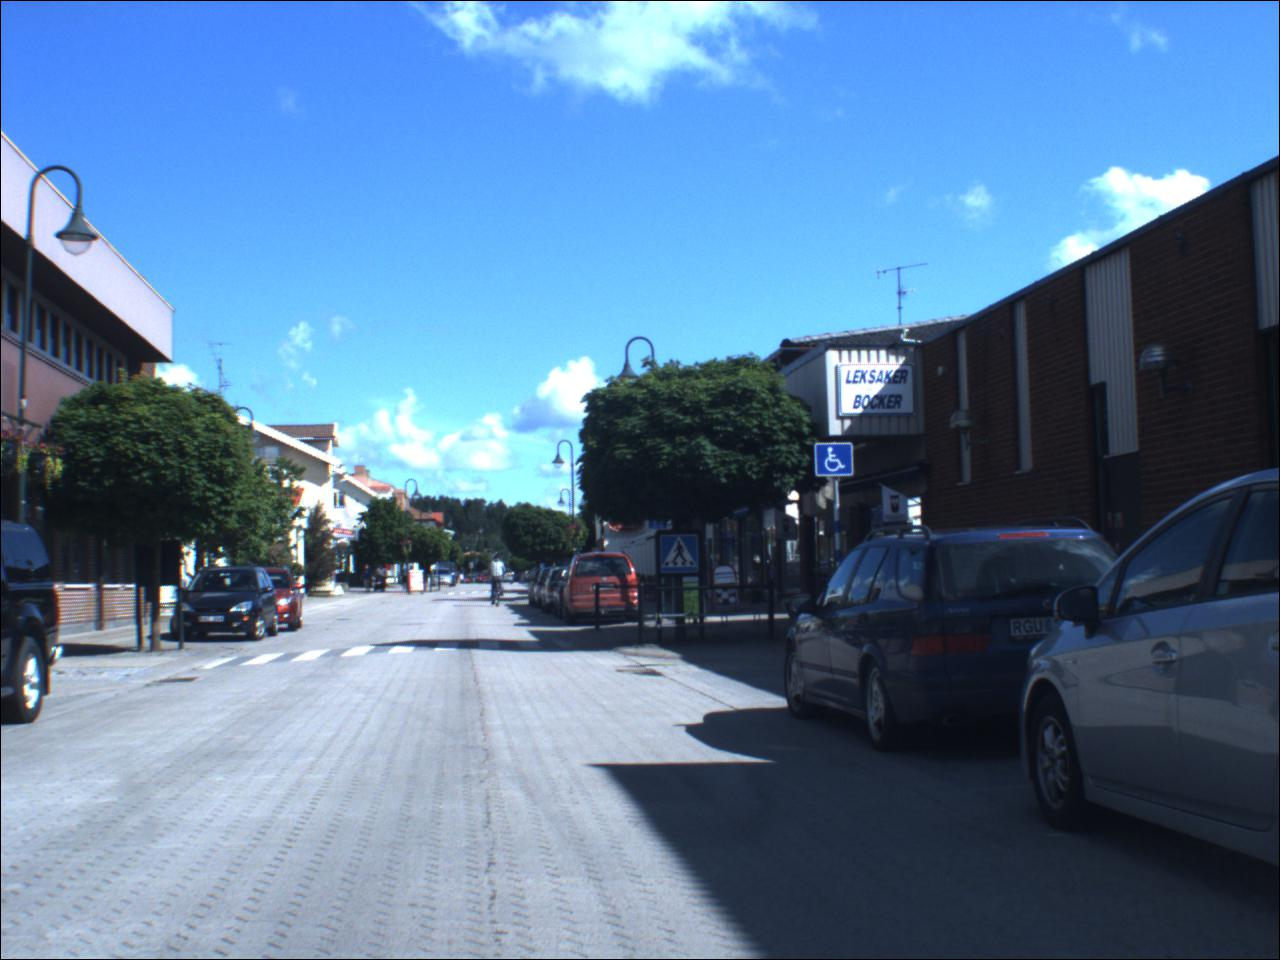PEDESTRIAN_CROSSING: (661, 536, 703, 579)
